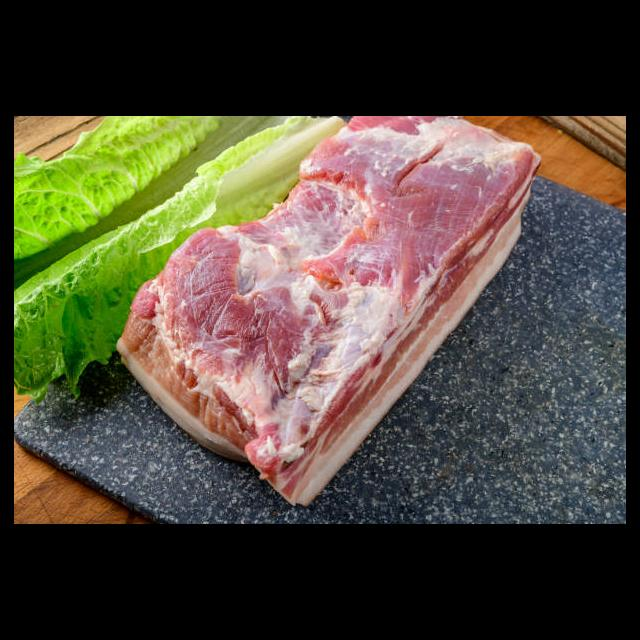pork: (299, 123, 530, 346), (122, 290, 344, 500)
